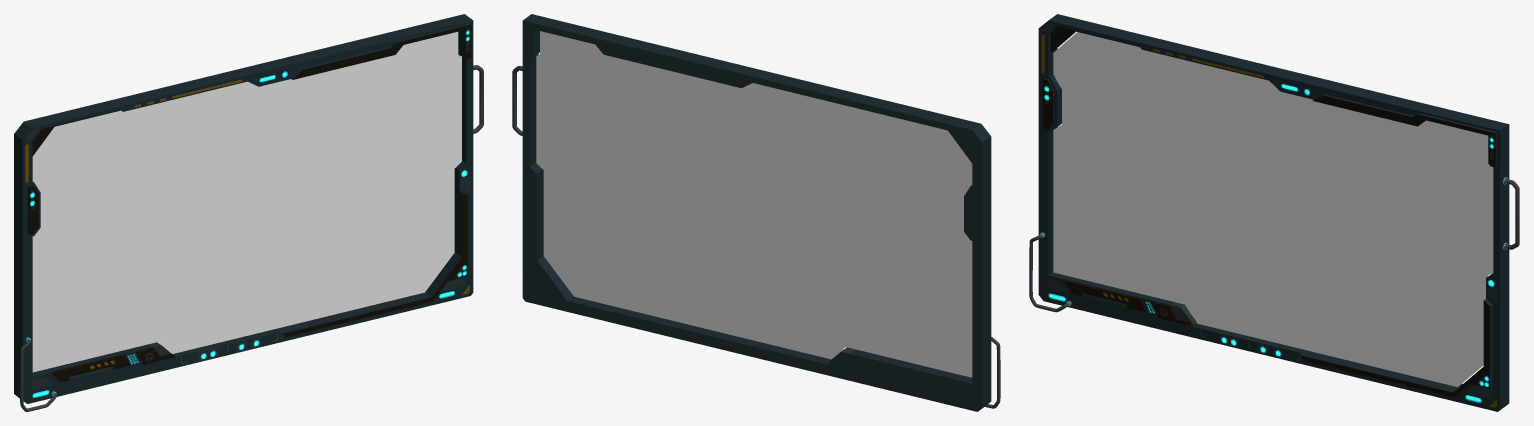
3 views of the same model, side by side, from view 1: azimuth 30°, elevation 25°; view 2: azimuth 150°, elevation 25°; view 3: azimuth 330°, elevation 25° (orthographic). The views are drawn at different scales.
Visible parts, largest first — view 1: Display, Main; view 2: Display, Main; view 3: Display, Main.
Part boxes in pixels (x1=…): Display: x1=32, y1=32, x2=461, y2=372; Main: x1=14, y1=14, x2=483, y2=411; Display: x1=536, y1=31, x2=972, y2=377; Main: x1=512, y1=14, x2=1000, y2=411; Display: x1=1053, y1=32, x2=1493, y2=386; Main: x1=1029, y1=14, x2=1519, y2=411.
Size of the model in its own units: 0.5592 by 0.3175 by 0.0263.
Materials: 2 (1 with a texture image).
